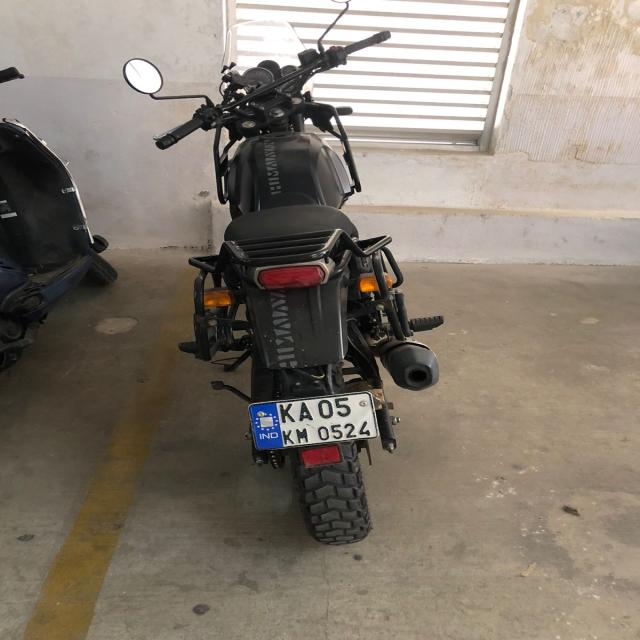number plate: (247, 390, 380, 451)
